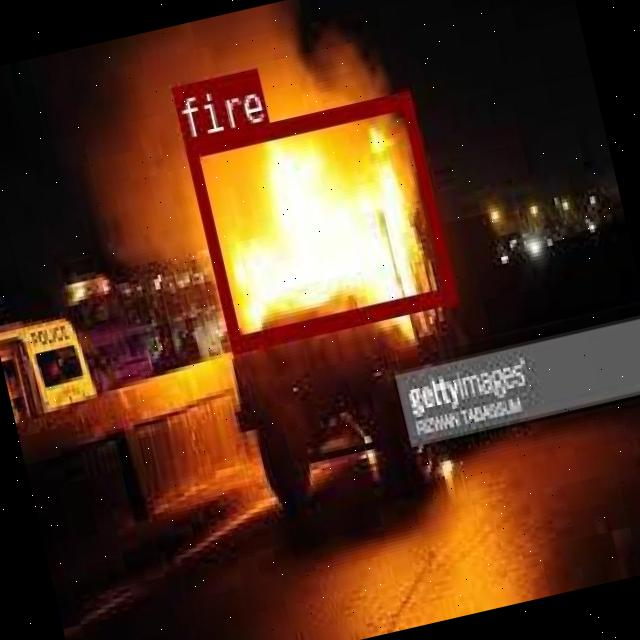fire: (183, 87, 456, 350)
